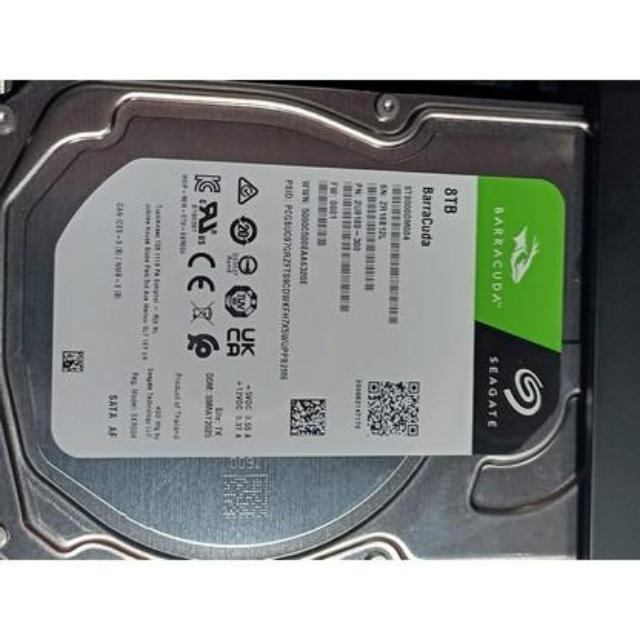DISK: (0, 84, 602, 558)
